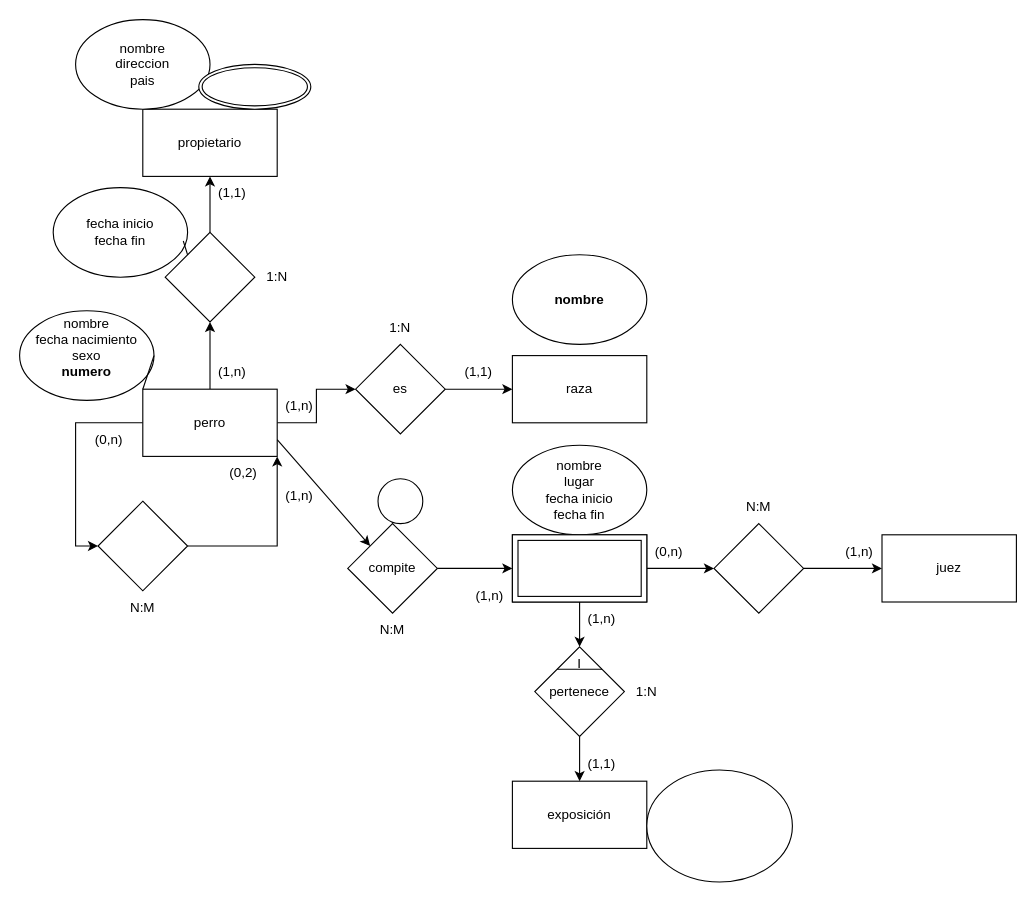
The diagram is 1036 pixels wide and 902 high, and some of its shapes have lost their labels. Each missing label, with the centre of its shape:
competicion: the point at 579,568
es padre: the point at 142,545
gana: the point at 400,501
juzgado: the point at 758,567
nombre lugar fecha inicio fecha fin tipo codigo expo: the point at 719,825
teléfono: the point at 254,86
tiene: the point at 209,276
